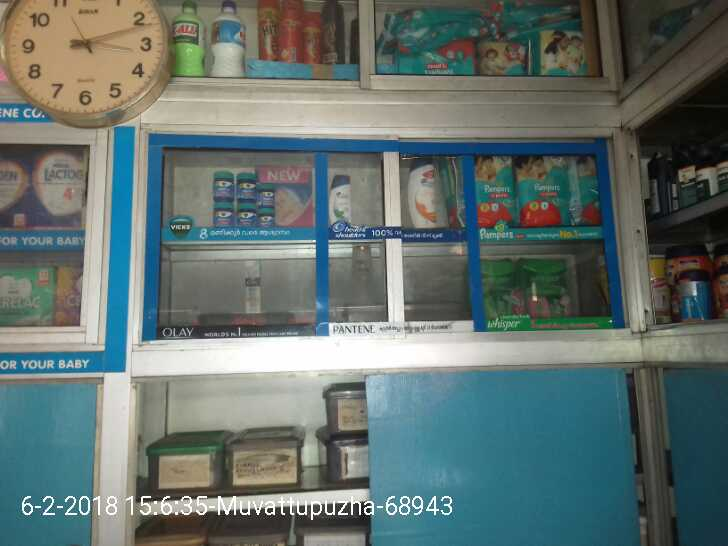vicks: (211, 167, 289, 236)
